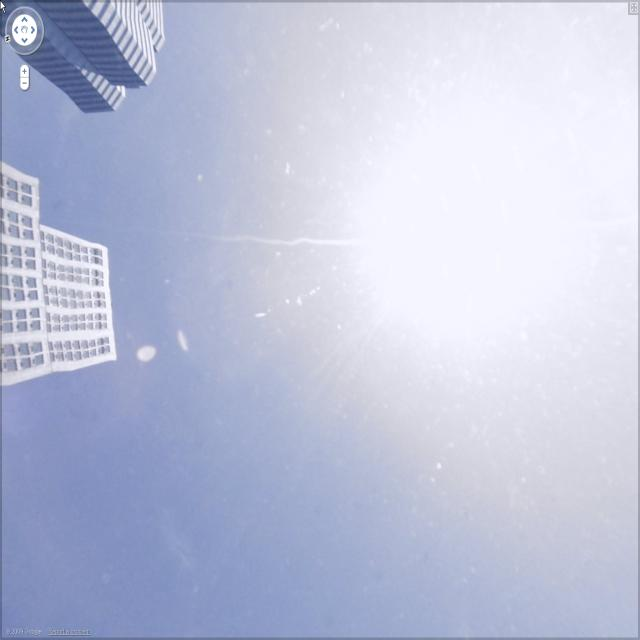b_1: (0, 198, 122, 354), (19, 0, 163, 104)
